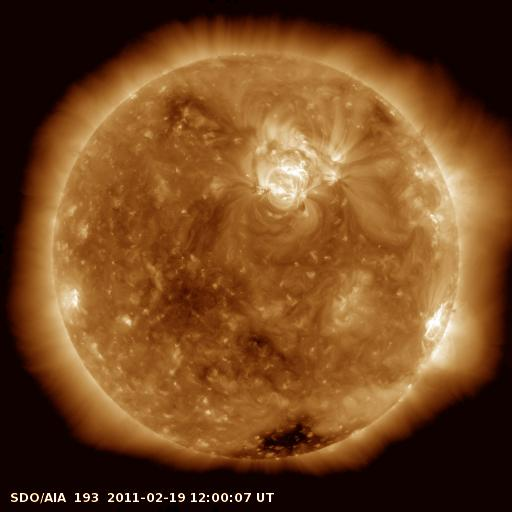coronal_hole: (225, 411, 334, 467)
